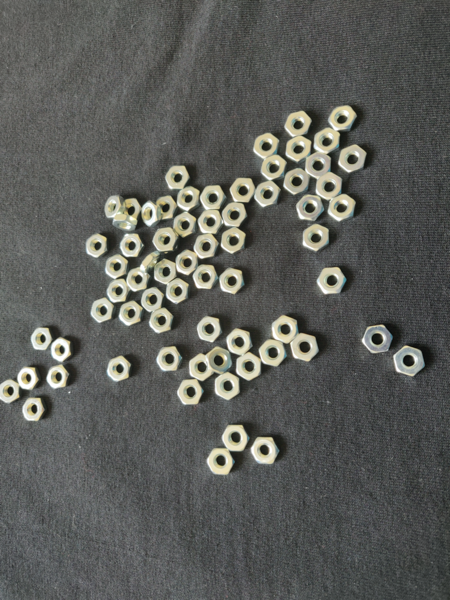nut: (394, 346, 425, 377), (362, 325, 394, 354), (338, 145, 367, 173), (296, 195, 325, 223), (259, 339, 287, 368), (317, 268, 347, 295), (303, 223, 330, 253), (272, 315, 299, 345), (291, 334, 319, 362), (252, 437, 280, 465), (207, 448, 235, 476), (284, 168, 311, 197), (315, 127, 342, 155), (329, 194, 356, 222), (207, 347, 234, 375), (328, 105, 357, 131), (226, 329, 253, 356), (219, 268, 246, 295), (317, 172, 343, 200), (261, 155, 289, 181), (222, 426, 250, 452), (221, 227, 247, 255), (287, 135, 312, 164), (237, 352, 262, 381), (215, 372, 240, 401), (306, 152, 332, 179), (285, 111, 312, 137), (255, 181, 281, 208), (156, 346, 183, 372), (189, 354, 214, 382), (222, 202, 248, 228), (153, 227, 179, 253), (253, 134, 280, 159), (177, 380, 204, 405), (107, 355, 131, 383), (197, 317, 222, 343), (230, 178, 256, 203), (193, 265, 218, 291), (198, 209, 224, 234), (194, 234, 220, 259), (200, 186, 227, 210), (150, 308, 174, 334), (105, 254, 129, 280), (174, 212, 197, 239), (119, 301, 143, 326), (107, 279, 131, 304), (46, 365, 70, 390), (166, 279, 189, 305), (176, 249, 198, 276), (127, 268, 151, 292), (22, 398, 46, 422), (166, 166, 191, 189), (142, 287, 165, 312), (92, 298, 115, 323), (177, 186, 199, 212), (155, 259, 177, 285), (156, 196, 178, 221), (143, 200, 162, 228), (121, 234, 144, 257), (141, 252, 165, 274), (51, 337, 72, 362), (18, 367, 40, 390), (86, 234, 107, 258), (105, 196, 125, 221), (31, 328, 53, 350), (0, 379, 20, 403), (113, 214, 137, 231), (124, 199, 142, 219)
